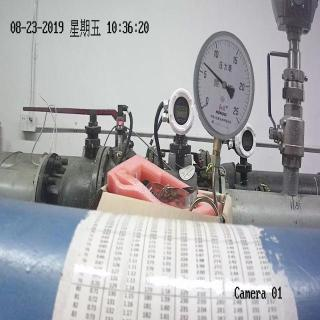gauge: (196, 30, 256, 140), (220, 78, 230, 91), (233, 116, 243, 126), (200, 100, 210, 110), (202, 62, 208, 66)
